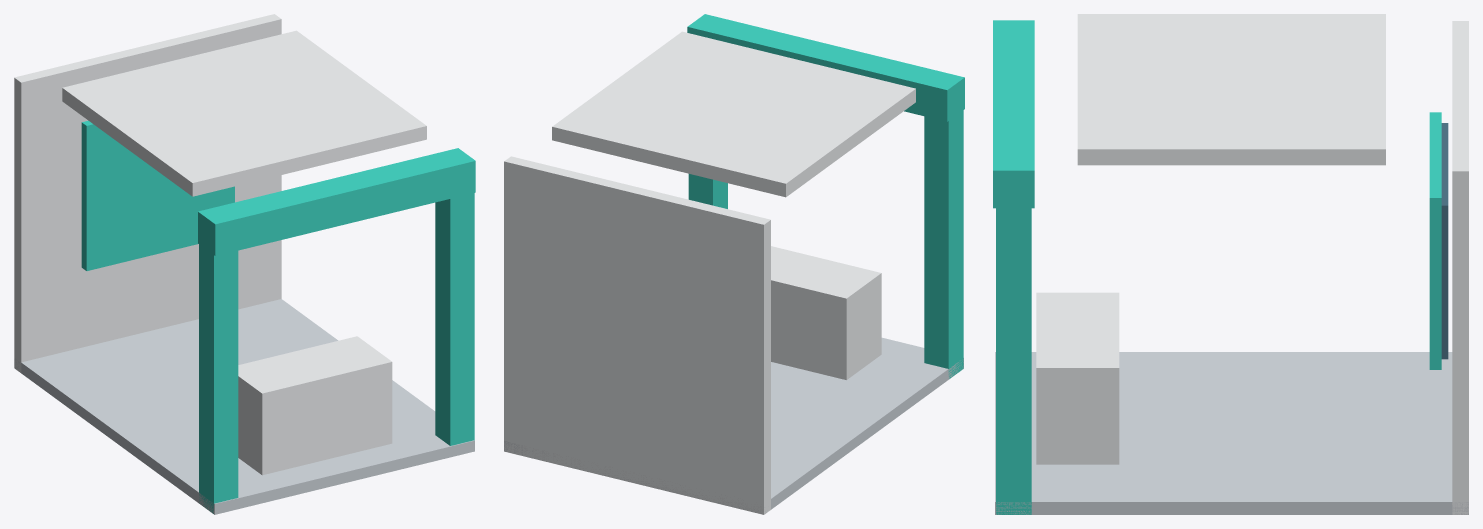
3 views of the same model, side by side, from view 1: azimuth 30°, elevation 25°; view 2: azimuth 150°, elevation 25°; view 3: azimuth 270°, elevation 25° (orthographic). The views are drawn at different scales.
Visible parts, largest first — view 1: Exhibition Booth Concept; view 2: Exhibition Booth Concept; view 3: Exhibition Booth Concept.
Boxes of the visible parts, bbox=[...] form: Exhibition Booth Concept: bbox=[14, 14, 475, 514]; Exhibition Booth Concept: bbox=[504, 14, 964, 514]; Exhibition Booth Concept: bbox=[993, 14, 1468, 514].
Bounding box in the file's own units: 3 × 3.34 × 4.02.
